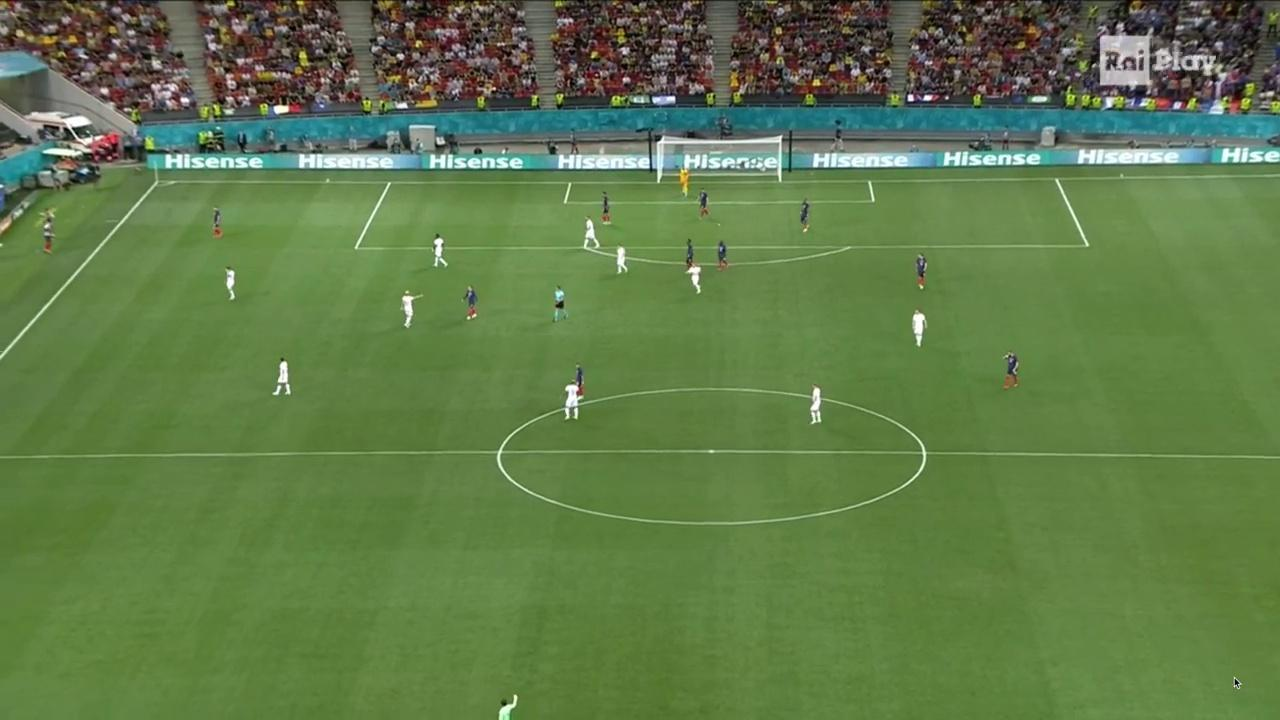goalkeeper: (498, 693, 519, 720), (679, 165, 691, 197)
player: (400, 289, 424, 329), (560, 378, 579, 421), (272, 356, 292, 396), (911, 307, 928, 348), (431, 233, 449, 270), (1002, 350, 1019, 389), (582, 215, 601, 249), (462, 285, 479, 321), (684, 262, 702, 294), (810, 383, 823, 425), (222, 265, 237, 301), (42, 219, 57, 254), (695, 187, 710, 220), (915, 252, 928, 289), (573, 362, 585, 401), (600, 190, 612, 226), (210, 205, 223, 238), (615, 242, 628, 275), (716, 240, 728, 272), (799, 197, 809, 234), (685, 237, 694, 270)
referee: (551, 285, 570, 323)
